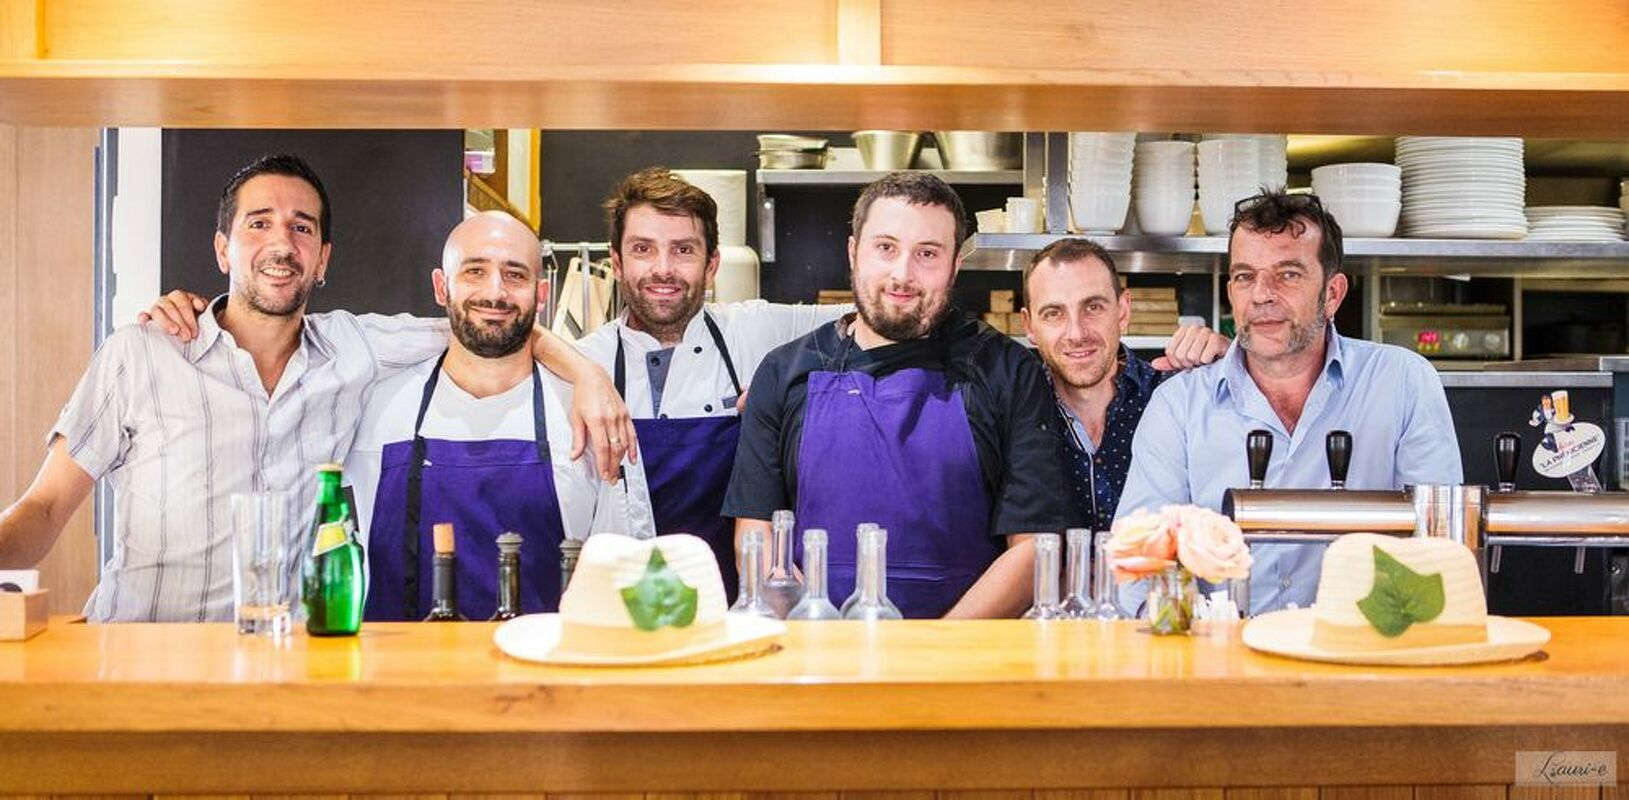without_mask: (864, 225, 947, 324), (1230, 258, 1320, 347), (242, 204, 317, 305), (452, 246, 530, 341), (1035, 282, 1114, 374), (626, 230, 703, 319)
